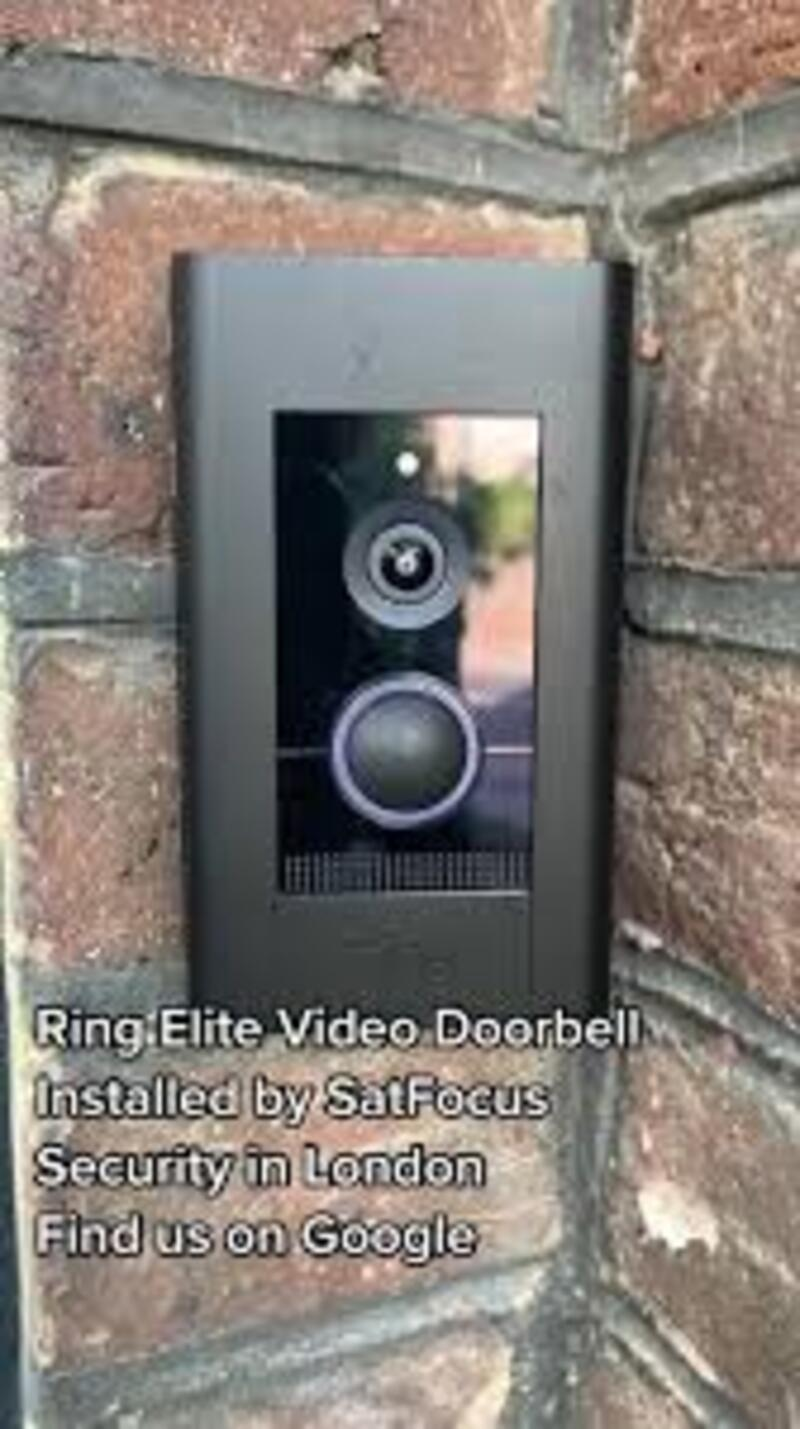doorbell: (229, 334, 569, 937)
